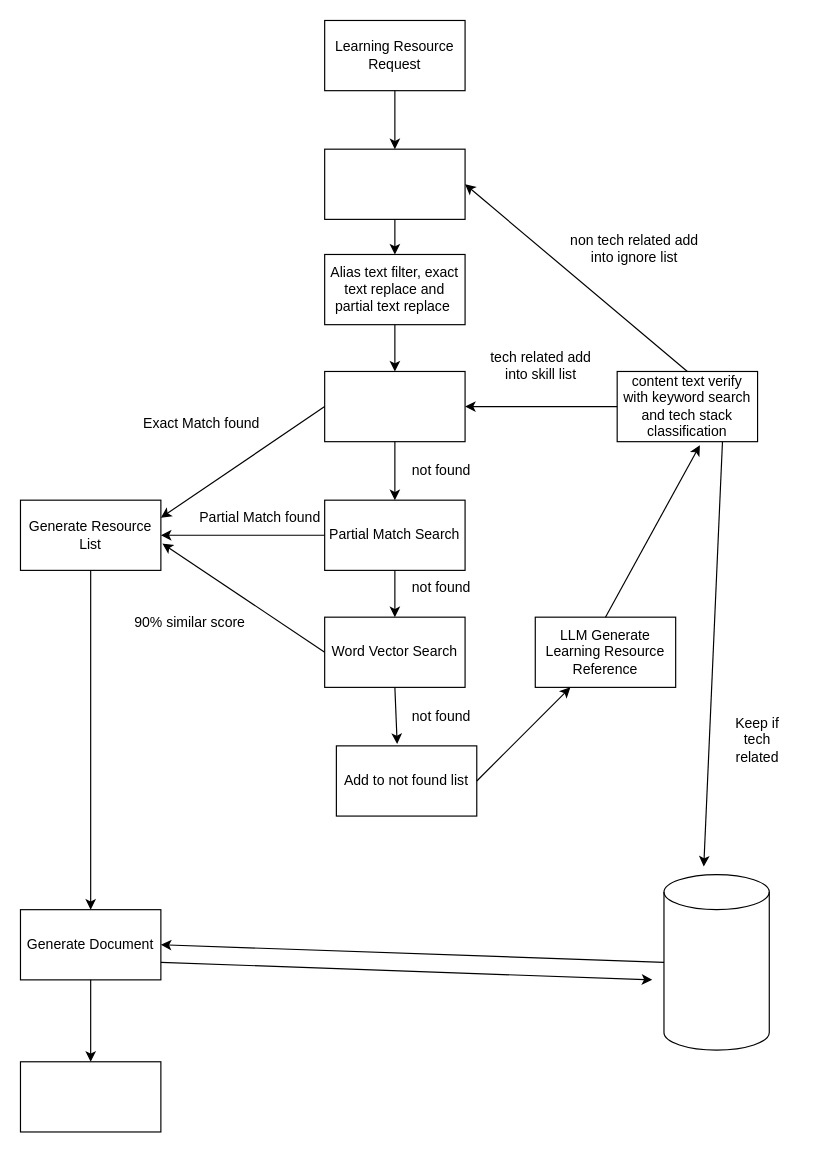
Some shapes in this 813 by 1152 pixel diagram are drawn without their labels. Here are the shapes that lost their labels. From the top down, the centre of each, then its label:
At point (394, 183): "Ignore list filter".
At point (394, 406): "Skill List Match".
At point (716, 961): "Learning Resource Reference Data".
At point (90, 1096): "output document".
